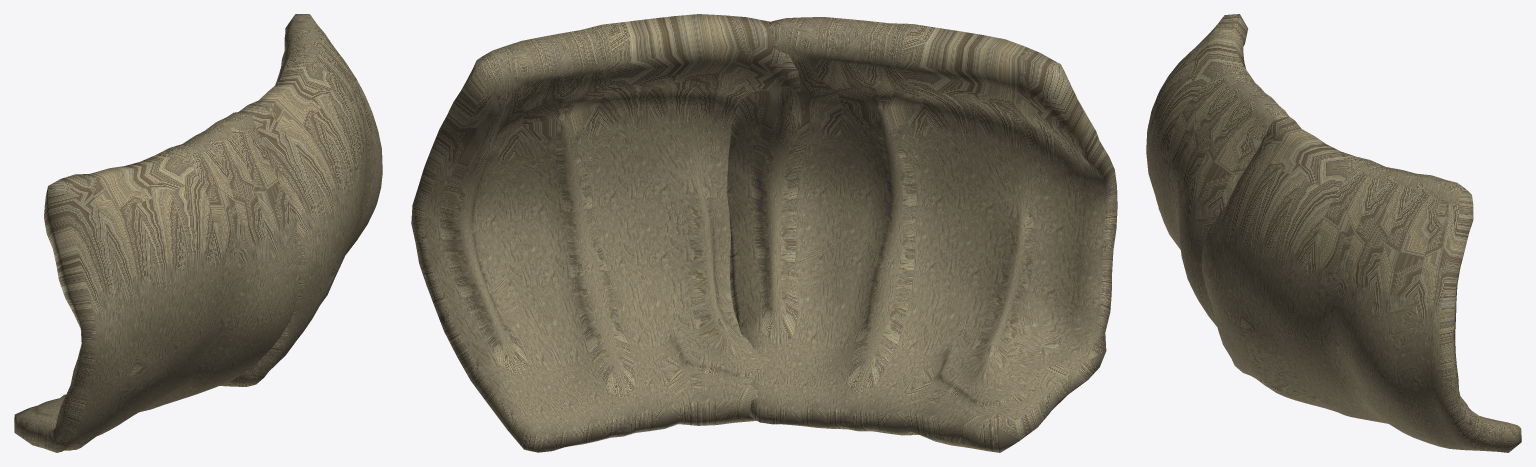
The model's file is saltmine_concave_02.dae.
The picture shows the model from 3 angles, left to right: view 1: azimuth 30°, elevation 25°; view 2: azimuth 150°, elevation 25°; view 3: azimuth 270°, elevation 25°; orthographic projection. The views are drawn at different scales.
Parts seen in each view (by area): view 1: side_concave_01; view 2: side_concave_01; view 3: side_concave_01.
Part boxes in pixels (bbox=[...]): side_concave_01: bbox=[14, 14, 382, 452]; side_concave_01: bbox=[411, 14, 1117, 452]; side_concave_01: bbox=[1146, 14, 1521, 452].
Bounding box in the file's own units: 16.7 × 10.7 × 12.11.
